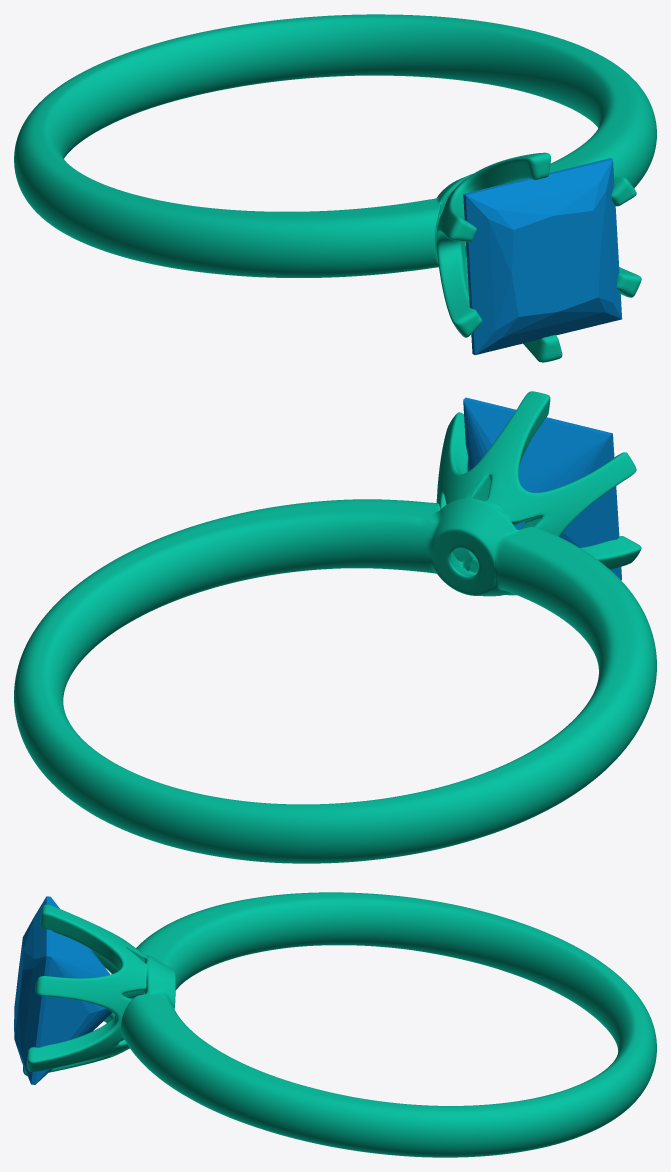
3 renders of one model, top to bottom at view 1: azimuth 30°, elevation 25°; view 2: azimuth 150°, elevation 25°; view 3: azimuth 270°, elevation 25°, orthographic. The views are drawn at different scales.
Parts seen in each view (by area): view 1: for render.3dm, Diamond_Princess; view 2: for render.3dm, Diamond_Princess; view 3: for render.3dm, Diamond_Princess.
Boxes of the visible parts, <box> form: for render.3dm: <box>14,14,656,362</box>; Diamond_Princess: <box>463,158,622,354</box>; for render.3dm: <box>14,391,656,863</box>; Diamond_Princess: <box>463,397,621,580</box>; for render.3dm: <box>23,892,656,1157</box>; Diamond_Princess: <box>14,896,112,1084</box>.
Bounding box in the file's own units: 2.5 × 0.8497 × 3.
